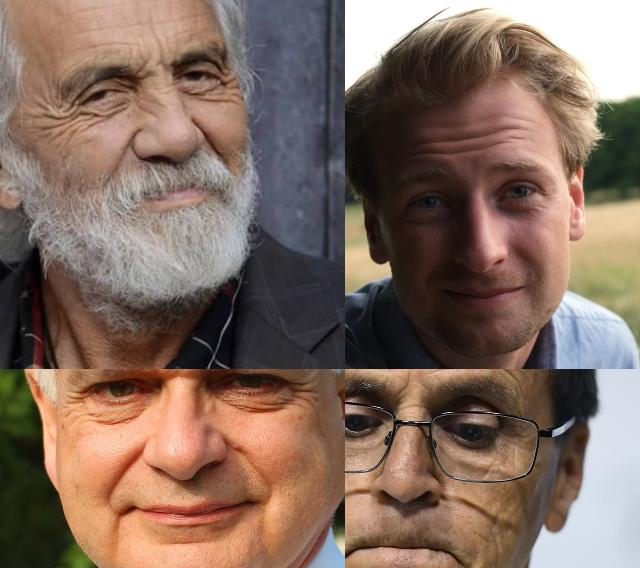crows_feet: (44, 97, 84, 139), (212, 67, 240, 105), (286, 378, 310, 408), (62, 388, 90, 412)
forehead: (88, 33, 138, 55), (406, 137, 440, 163), (444, 134, 474, 160), (480, 126, 510, 152), (512, 116, 534, 148)
frown_line: (150, 33, 170, 75), (391, 374, 411, 408)
gummy_smile: (111, 443, 141, 494), (108, 131, 138, 170), (192, 117, 220, 154)
